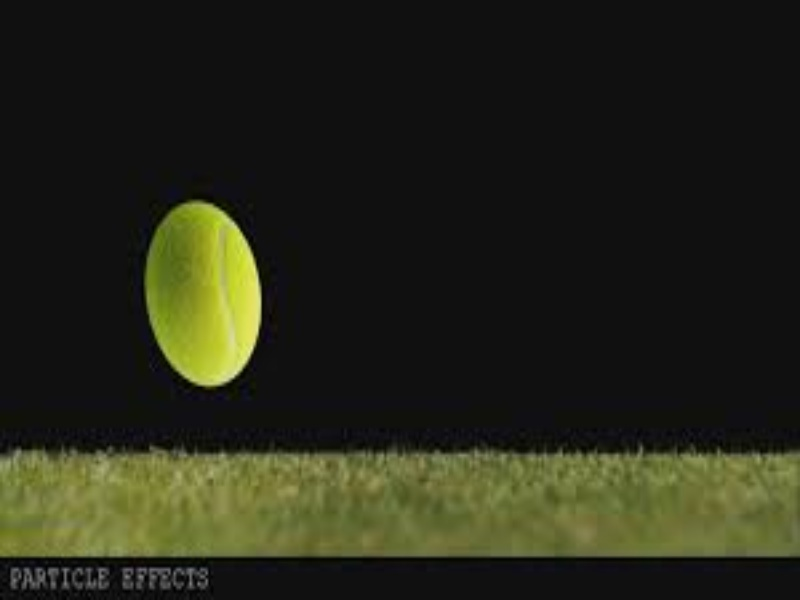tennis ball: (141, 184, 274, 404)
